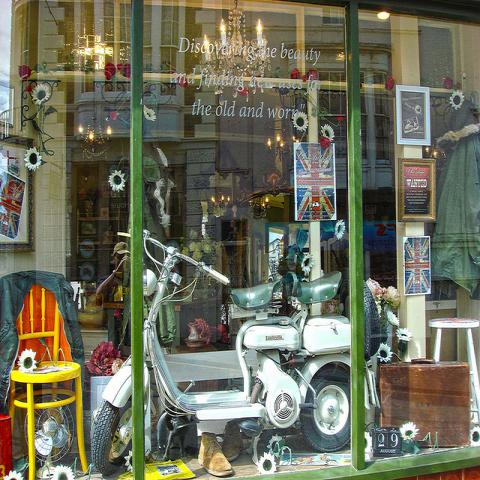motorcycle: (91, 232, 351, 476)
